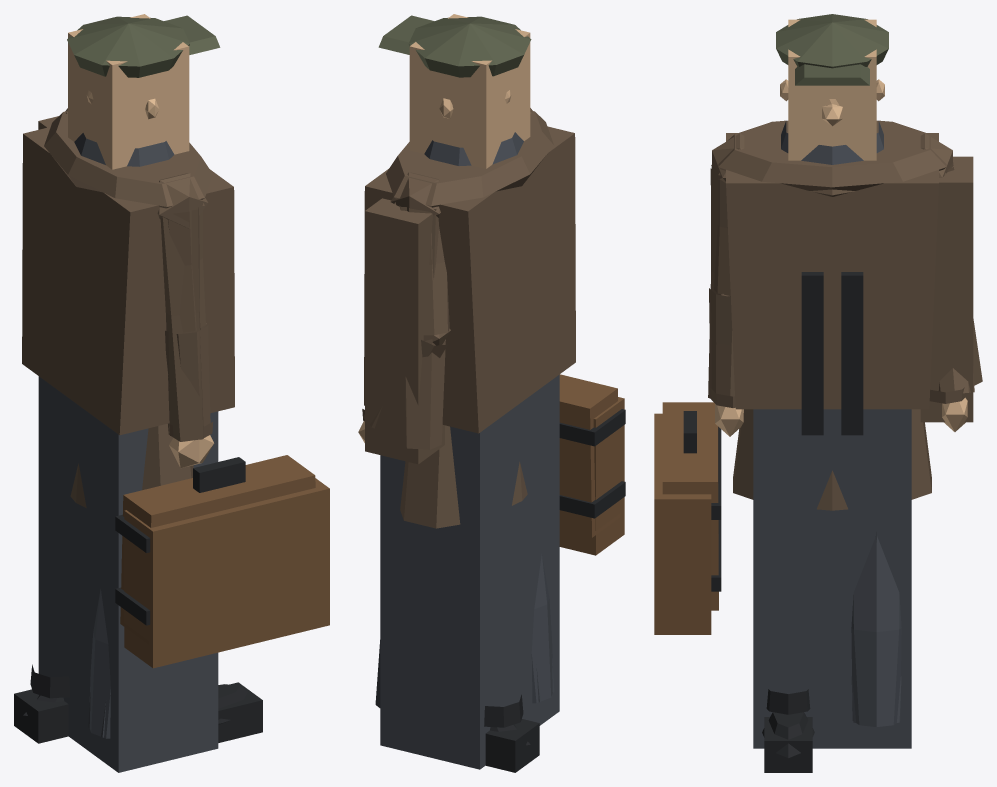
The model's file is neutral_civilian.glb.
3 views of the same model, side by side, from view 1: azimuth 30°, elevation 25°; view 2: azimuth 150°, elevation 25°; view 3: azimuth 270°, elevation 25° (orthographic).
Parts seen in each view (by area): view 1: arm_r (×3), torso (×2), leg_l (×3), head (×2), leg_r (×2); view 2: leg_l (×3), torso (×3), arm_l (×3), head (×2), arm_r (×2), leg_r; view 3: torso (×3), leg_l (×2), arm_r (×3), head (×2), arm_l (×2), leg_r (×2).
Boxes of the visible parts, left/top/right/bottom form: arm_r (×3): left=115, top=173, right=329, bottom=668; torso (×2): left=22, top=111, right=234, bottom=507; leg_l (×3): left=14, top=376, right=218, bottom=772; head (×2): left=67, top=14, right=220, bottom=169; leg_r (×2): left=88, top=589, right=262, bottom=742; leg_l (×3): left=375, top=374, right=559, bottom=772; torso (×3): left=364, top=110, right=575, bottom=528; arm_l (×3): left=358, top=172, right=450, bottom=464; head (×2): left=378, top=14, right=531, bottom=168; arm_r (×2): left=530, top=108, right=625, bottom=555; leg_r: left=531, top=554, right=552, bottom=703; torso (×3): left=718, top=120, right=946, bottom=510; leg_l (×2): left=753, top=409, right=911, bottom=748; arm_r (×3): left=654, top=133, right=744, bottom=634; head (×2): left=776, top=14, right=888, bottom=160; arm_l (×2): left=920, top=133, right=974, bottom=431; leg_r (×2): left=762, top=689, right=814, bottom=772.
Size of the model in its own units: 0.5063 by 1.76 by 0.7464.
